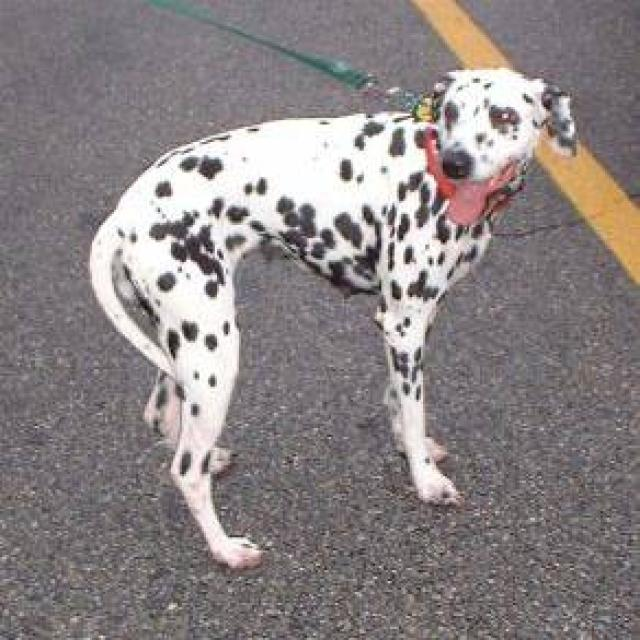dog: (86, 63, 576, 570)
